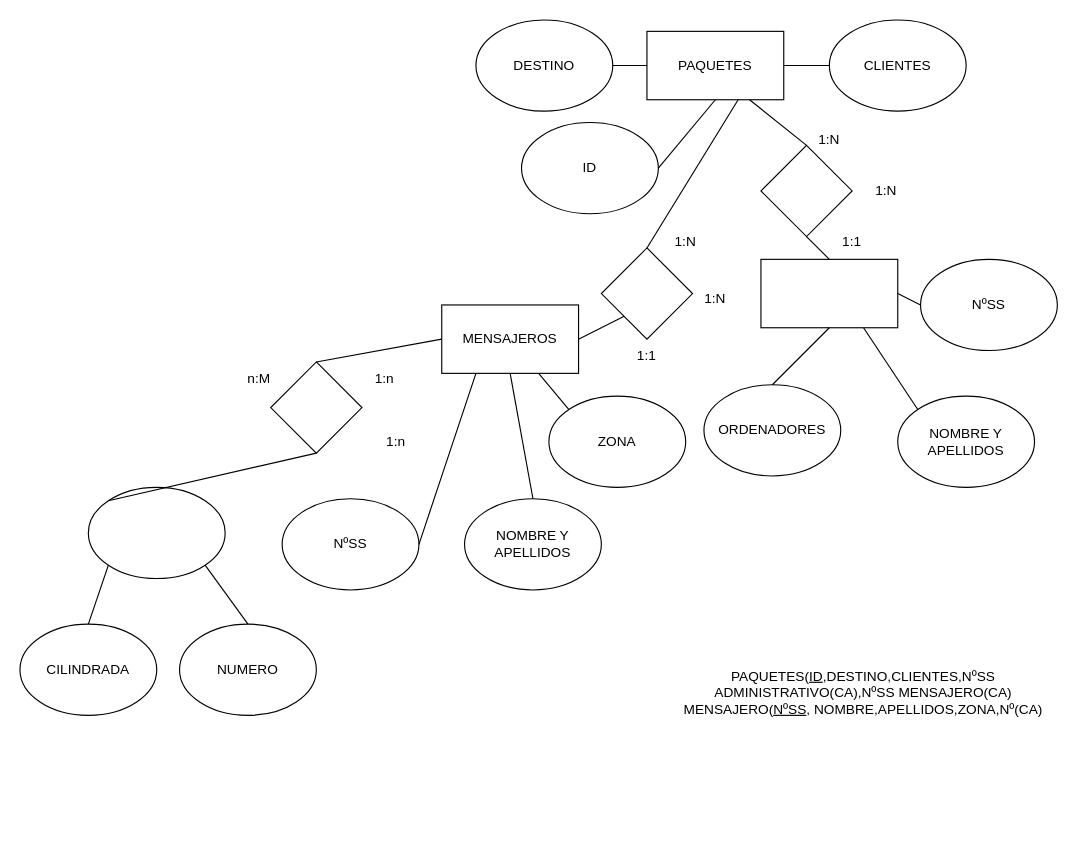
The diagram is 1077 pixels wide and 861 high, and some of its shapes have lost their labels. The shapes that lost their labels are listed below. From the top down, each one's centre as x and y in pixels, then its label:
the point at 806,190: son recibidos
the point at 646,293: reparten
the point at 829,293: ADMINISTRATIVOS
the point at 316,407: COGE
the point at 156,532: MOTOS ASOCIADAS
